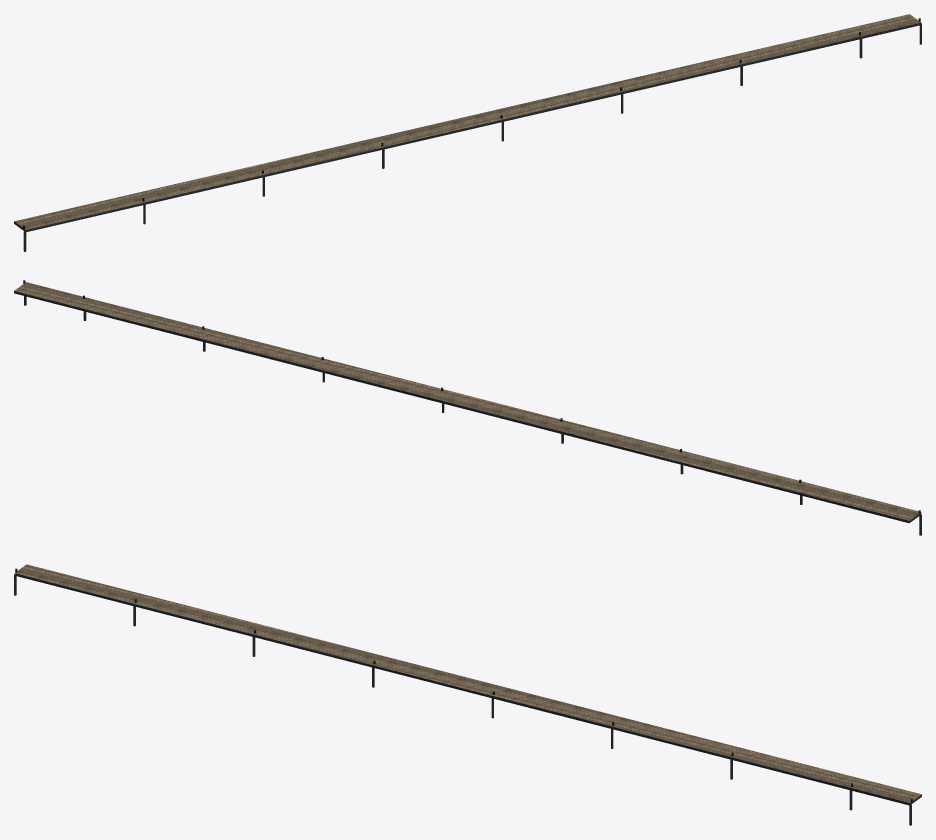
The model's file is SM_Molo_Pontiletto_Sud_LOD1.fbx.
3 views of the same model, one above another, from view 1: azimuth 30°, elevation 25°; view 2: azimuth 150°, elevation 25°; view 3: azimuth 330°, elevation 25° (orthographic). The views are drawn at different scales.
Visible parts, largest first — view 1: SM_Molo_Pontiletto_Sud_LOD1; view 2: SM_Molo_Pontiletto_Sud_LOD1; view 3: SM_Molo_Pontiletto_Sud_LOD1.
Boxes of the visible parts, bbox=[...] form: SM_Molo_Pontiletto_Sud_LOD1: bbox=[14, 14, 921, 251]; SM_Molo_Pontiletto_Sud_LOD1: bbox=[14, 280, 921, 535]; SM_Molo_Pontiletto_Sud_LOD1: bbox=[14, 564, 921, 825].
Size of the model in its own units: 7799 by 356 by 209.
Materials: 2 (2 with a texture image).
